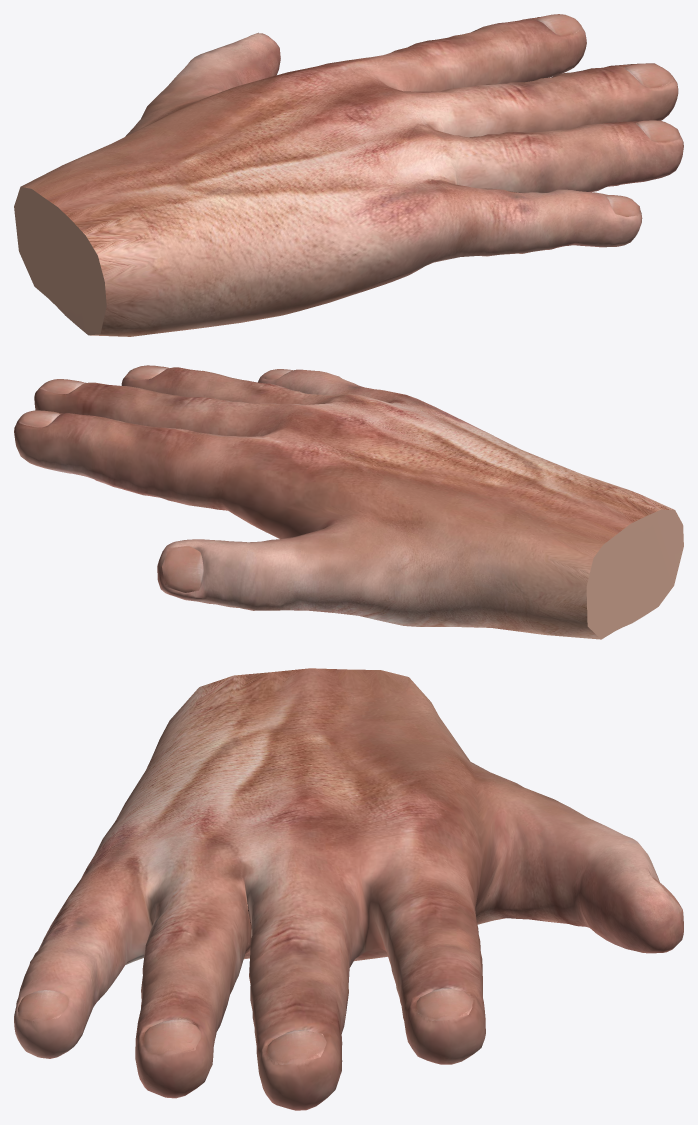
File: hud_object_hand.dae
The picture shows the model from 3 angles, top to bottom: view 1: azimuth 30°, elevation 25°; view 2: azimuth 150°, elevation 25°; view 3: azimuth 270°, elevation 25°; orthographic projection. The views are drawn at different scales.
Visible parts, largest first — view 1: CubeFBXASC046000_CubeFBXASC046017_Detached; view 2: CubeFBXASC046000_CubeFBXASC046017_Detached; view 3: CubeFBXASC046000_CubeFBXASC046017_Detached.
Boxes of the visible parts, x1=… form: CubeFBXASC046000_CubeFBXASC046017_Detached: x1=14, y1=14, x2=683, y2=336; CubeFBXASC046000_CubeFBXASC046017_Detached: x1=14, y1=365, x2=683, y2=639; CubeFBXASC046000_CubeFBXASC046017_Detached: x1=14, y1=668, x2=683, y2=1110.
Size of the model in its own units: 38.78 by 9.12 by 28.1.
